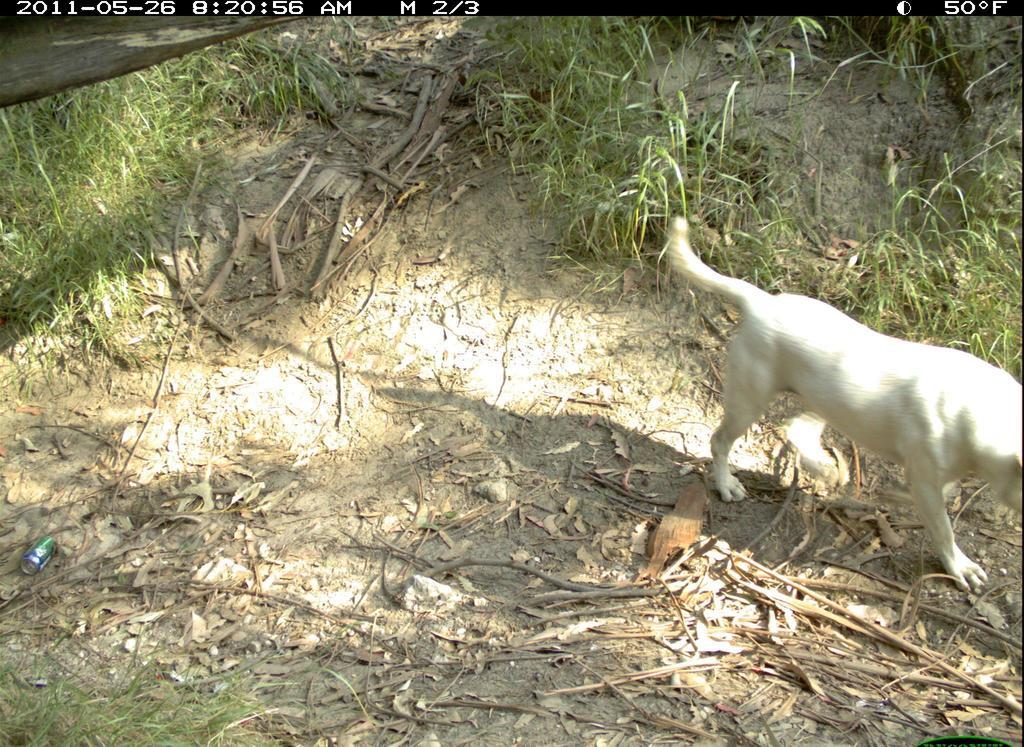dog: (661, 199, 1021, 615)
